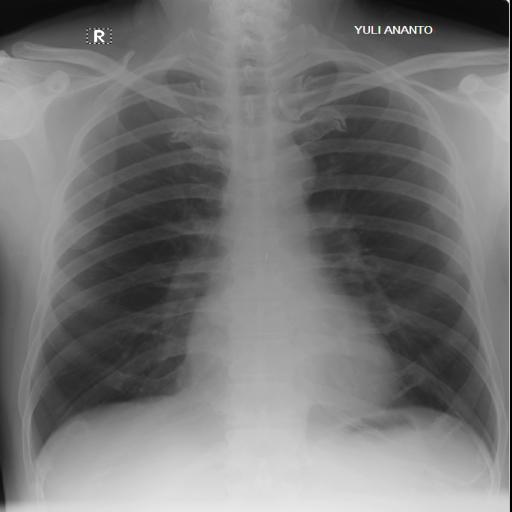normal: (14, 28, 506, 474)
